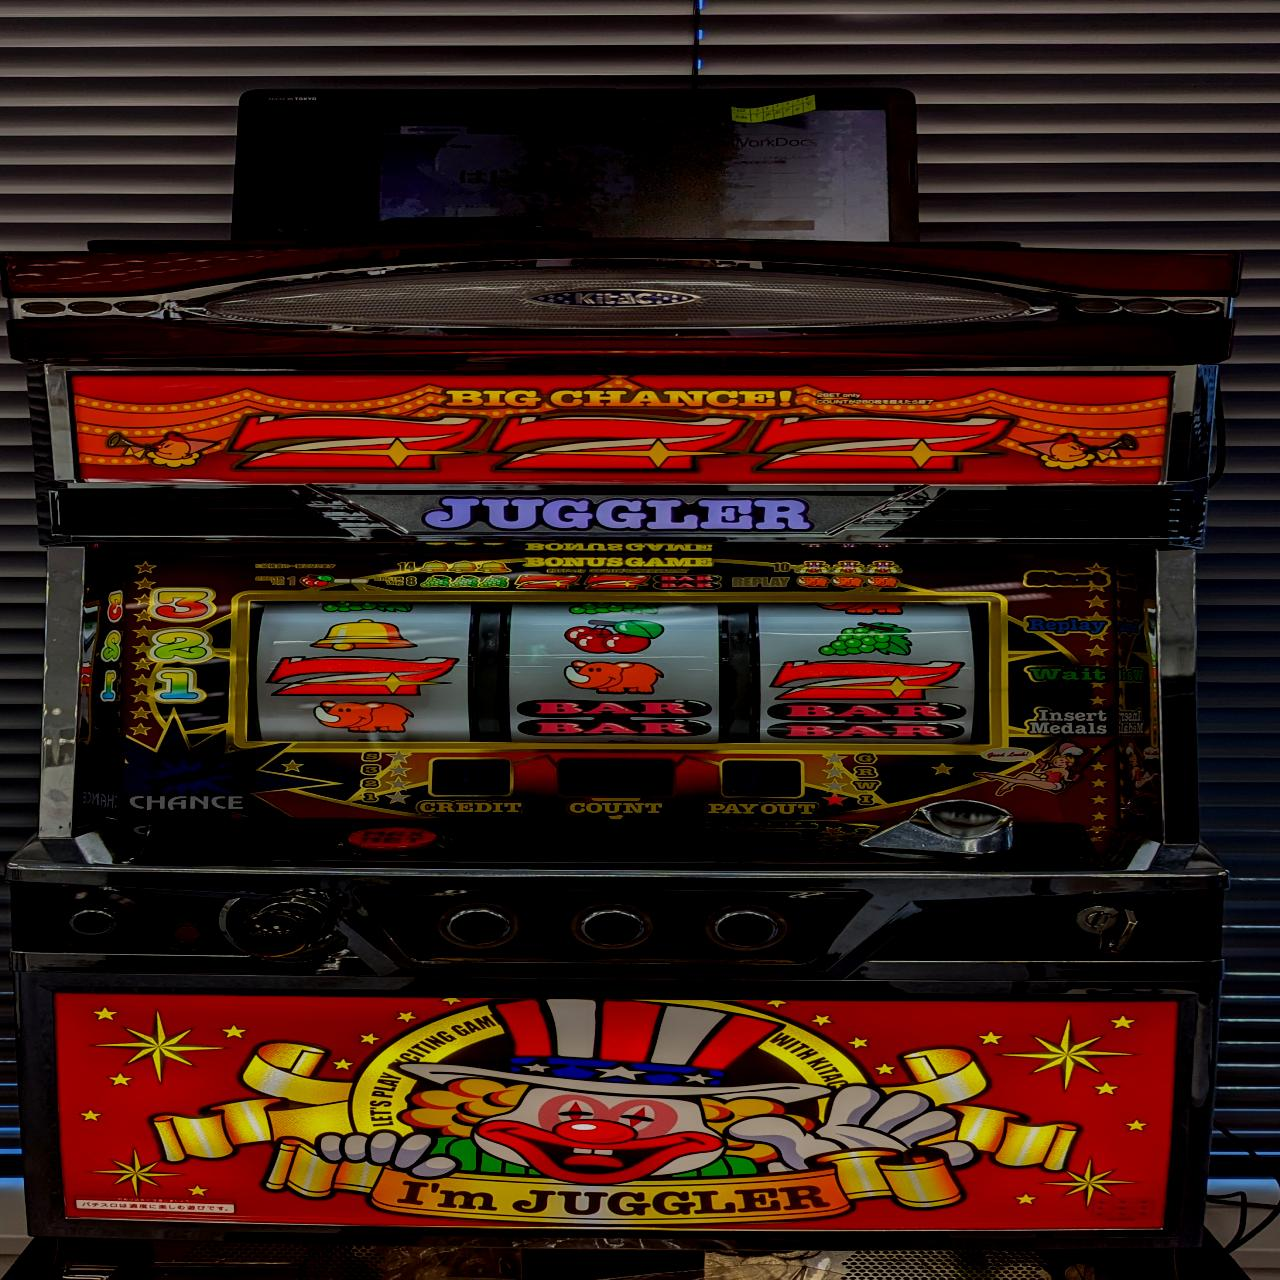7: (263, 654, 463, 697), (765, 658, 969, 699)
8: (298, 699, 423, 735), (553, 658, 668, 695)
Display: (234, 591, 1001, 745)
bar: (512, 696, 719, 737), (764, 700, 969, 738)
bell: (309, 615, 416, 654)
cherry: (557, 617, 667, 655)
grape: (806, 619, 930, 658)
